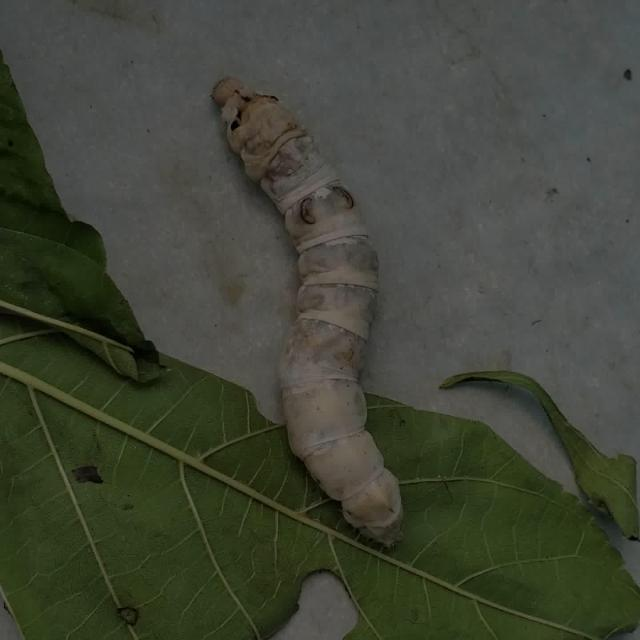Grasserie: (179, 46, 437, 570)
